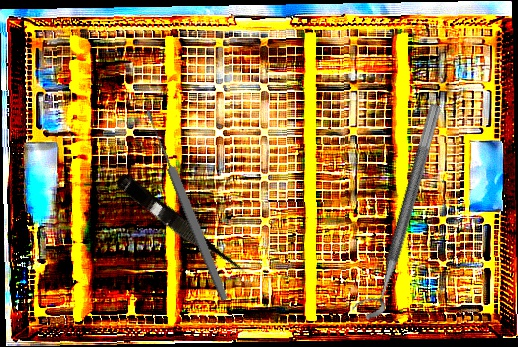Fixation Ring: (350, 98, 443, 324)
Micro Scissor: (111, 171, 251, 283)
Surgical Spoon: (142, 107, 231, 303)
